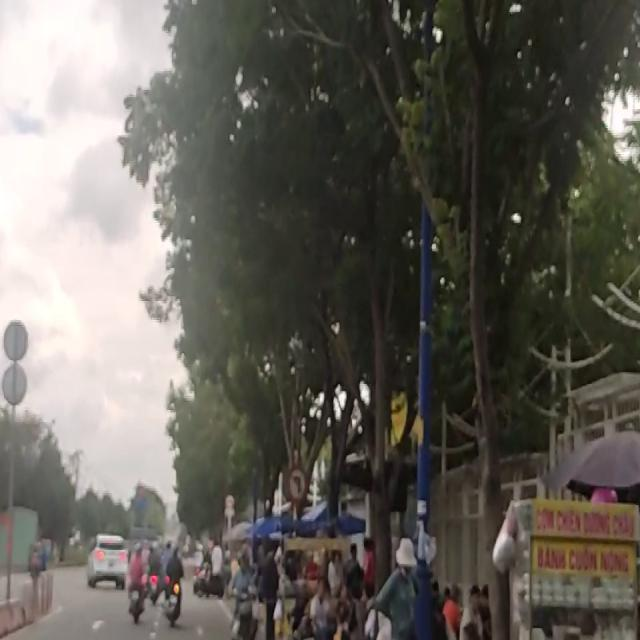Bien bao cam re trai: (283, 461, 313, 504)
